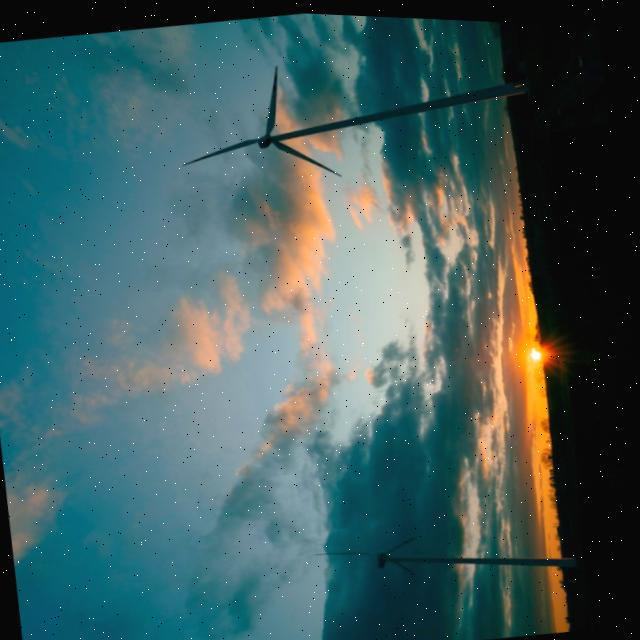solid-blade: (274, 138, 341, 172), (184, 135, 259, 163), (267, 64, 278, 132)
wind-turbine: (186, 64, 528, 172)
